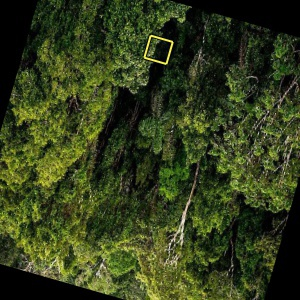square: (140, 33, 175, 68)
